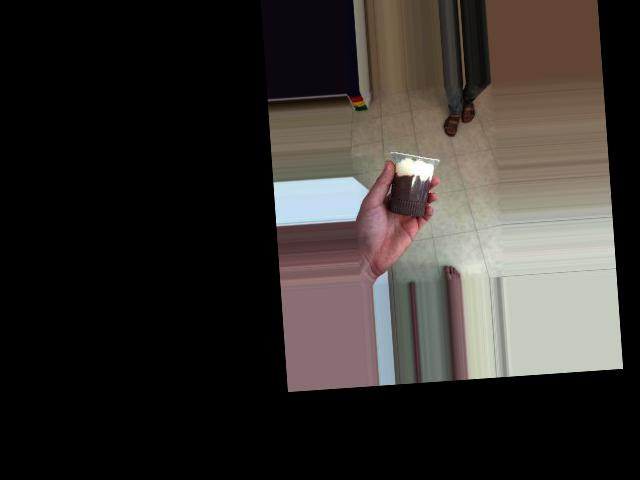milky: (379, 147, 436, 229)
